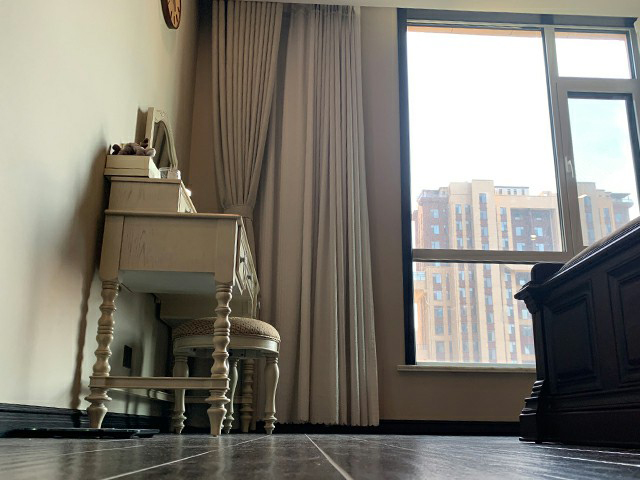curtain: (209, 1, 381, 427)
stool: (513, 215, 640, 452), (168, 315, 282, 438)
table: (83, 106, 261, 438)
